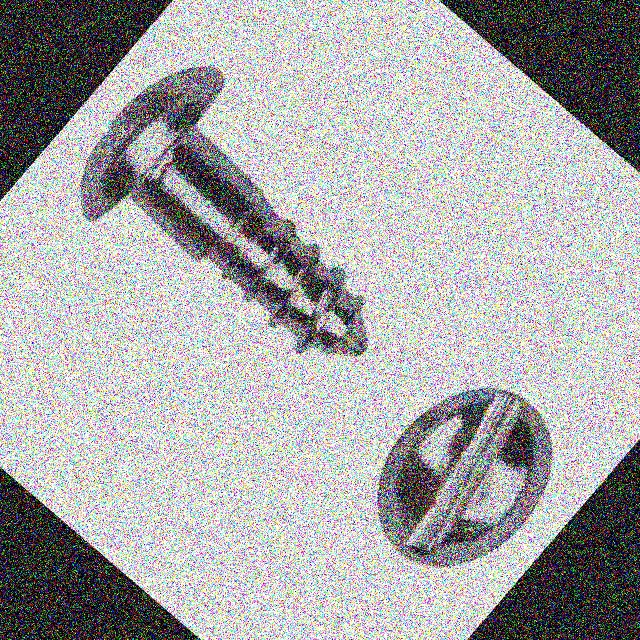duz: (339, 352, 587, 605)
